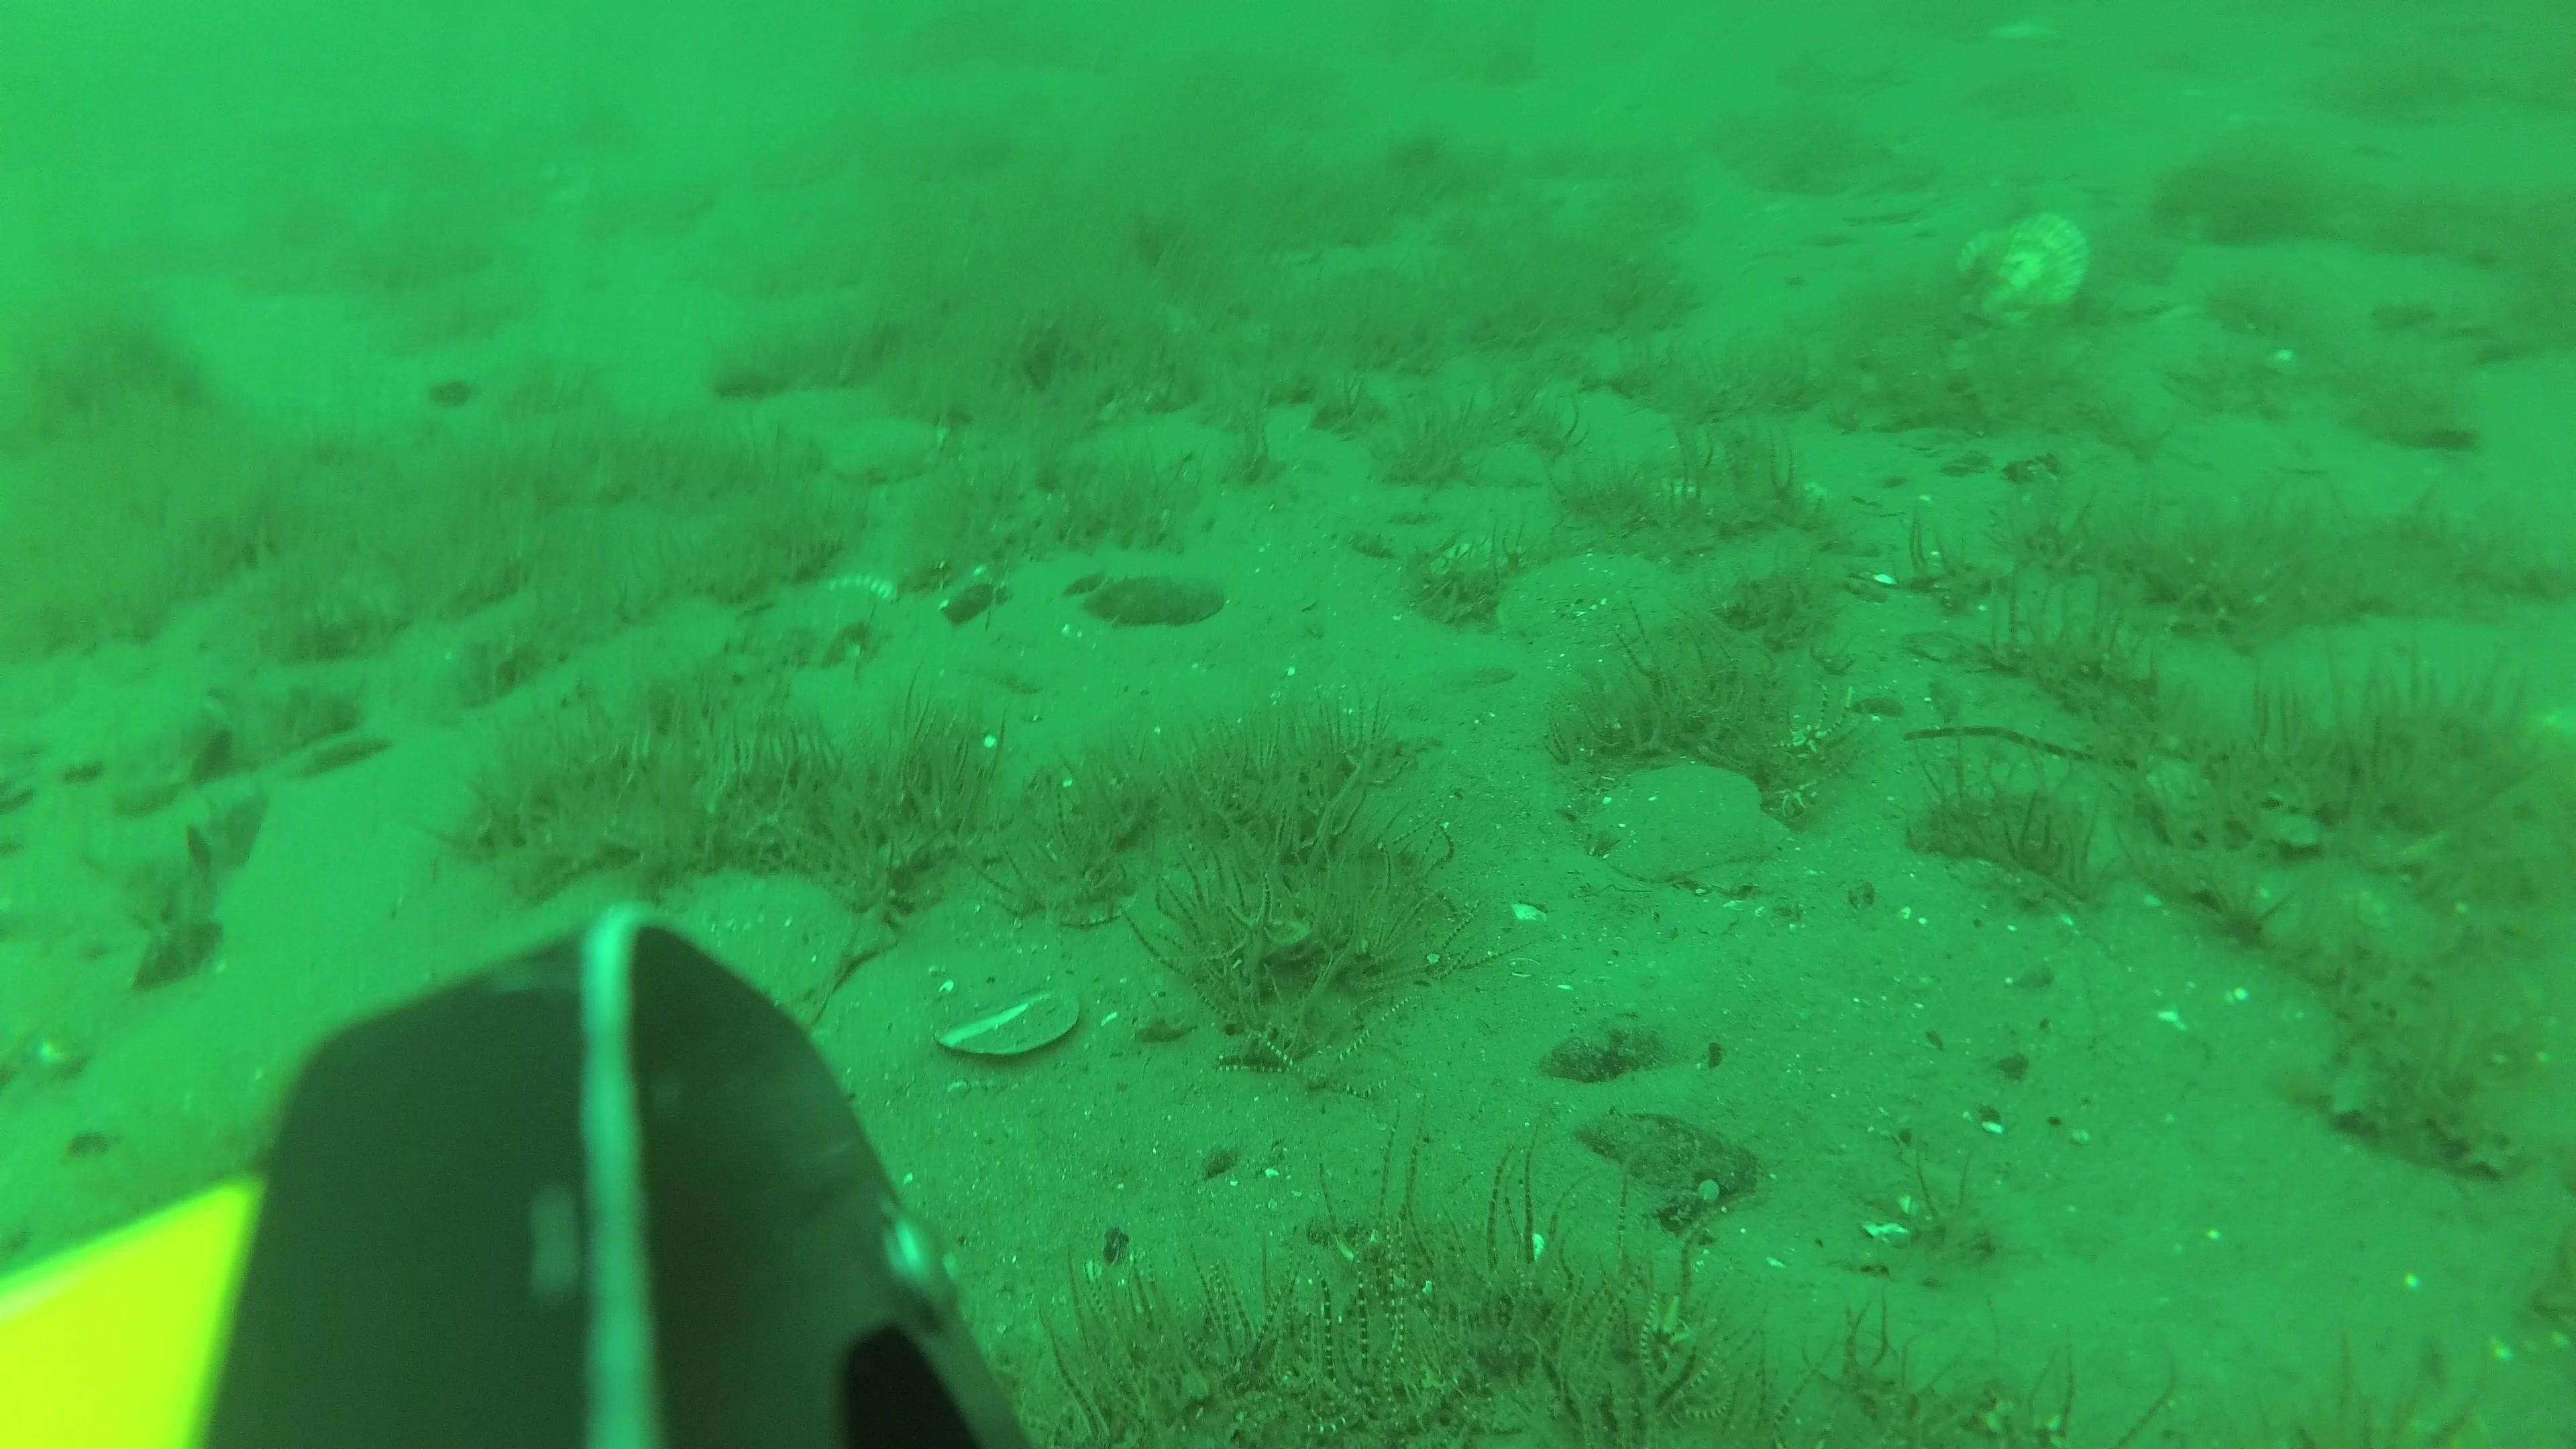scallop: (651, 865, 892, 1056), (1576, 763, 1787, 901), (1502, 547, 1686, 646), (1960, 211, 2089, 329), (830, 412, 947, 483), (764, 379, 876, 446)
